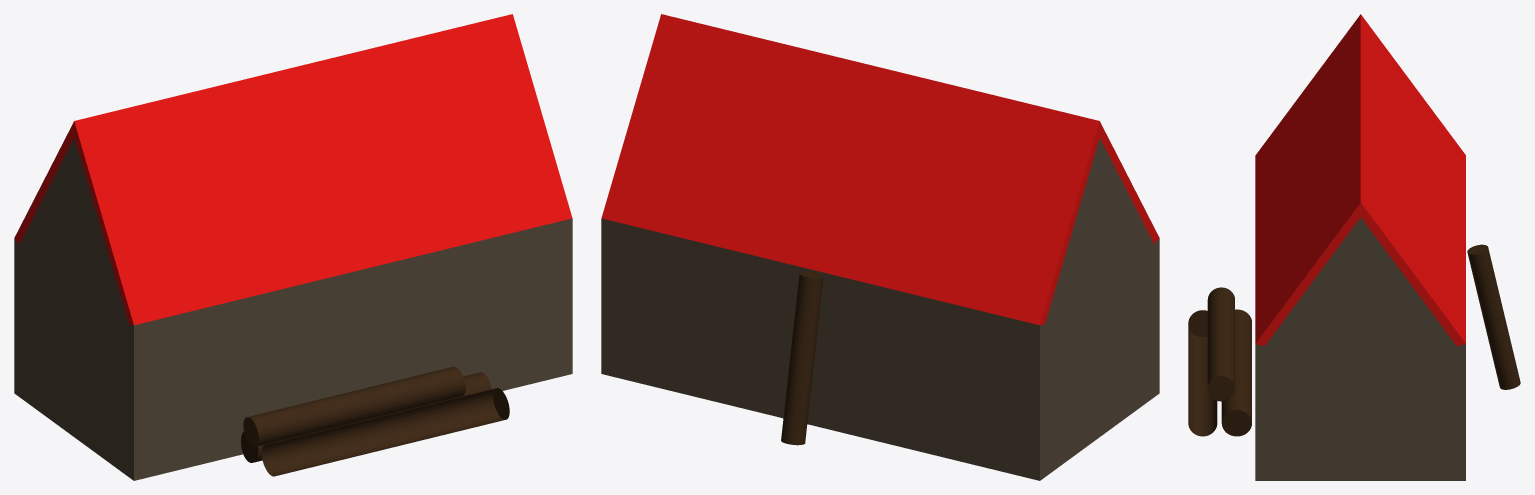
File: LumberMill.fbx
3 renders of one model, left to right at view 1: azimuth 30°, elevation 25°; view 2: azimuth 150°, elevation 25°; view 3: azimuth 270°, elevation 25°, orthographic. The views are drawn at different scales.
Visible parts, largest first — view 1: Cube; view 2: Cube; view 3: Cube.
Boxes of the visible parts, x1,y1,x2,y2 form: Cube: (14,14,572,480); Cube: (601,14,1159,480); Cube: (1188,14,1520,480).
Size of the model in its own units: 815 by 562 by 608.
